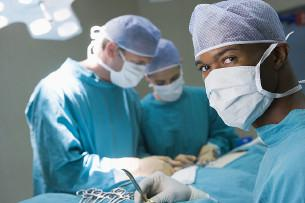OK: (200, 48, 279, 127), (112, 51, 151, 90), (150, 71, 184, 103)
